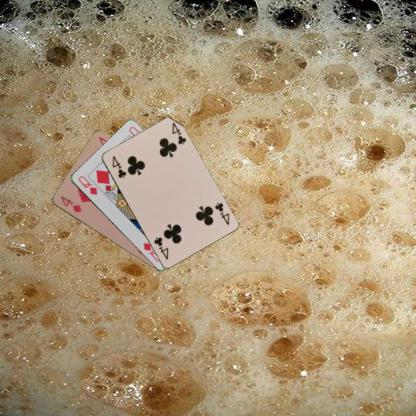4c: (109, 153, 128, 179), (212, 200, 231, 226)
4d: (58, 193, 82, 214)
Qd: (76, 173, 98, 196)
